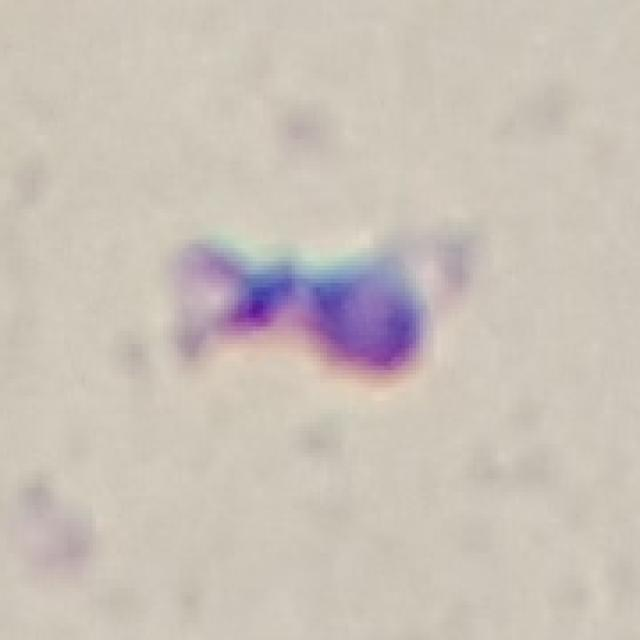non-sperm: (177, 237, 436, 384)
